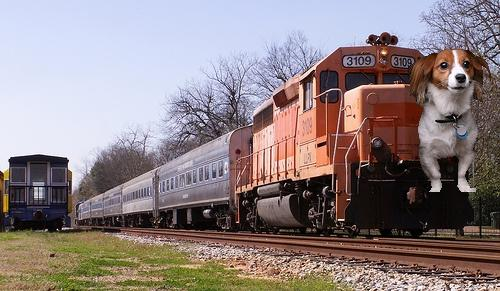tampered: (409, 50, 491, 192)
